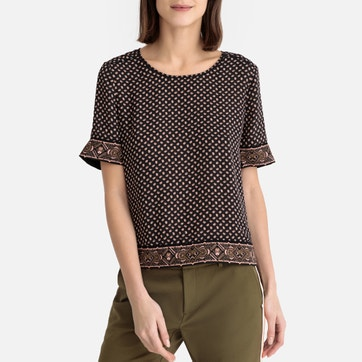C_short blouse: (80, 48, 276, 268)
